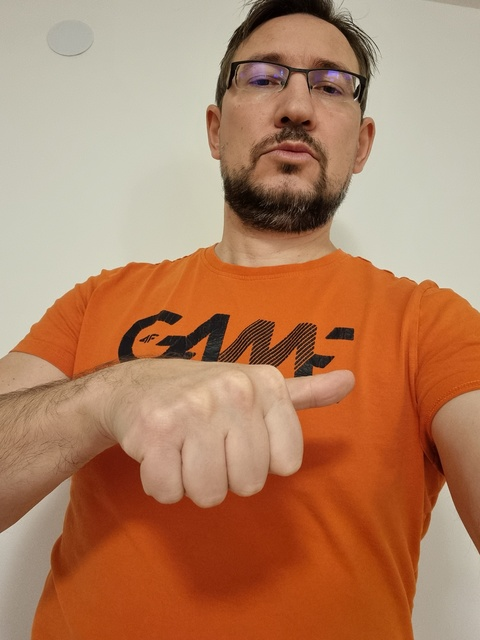GestBack: (140, 363, 354, 509)
